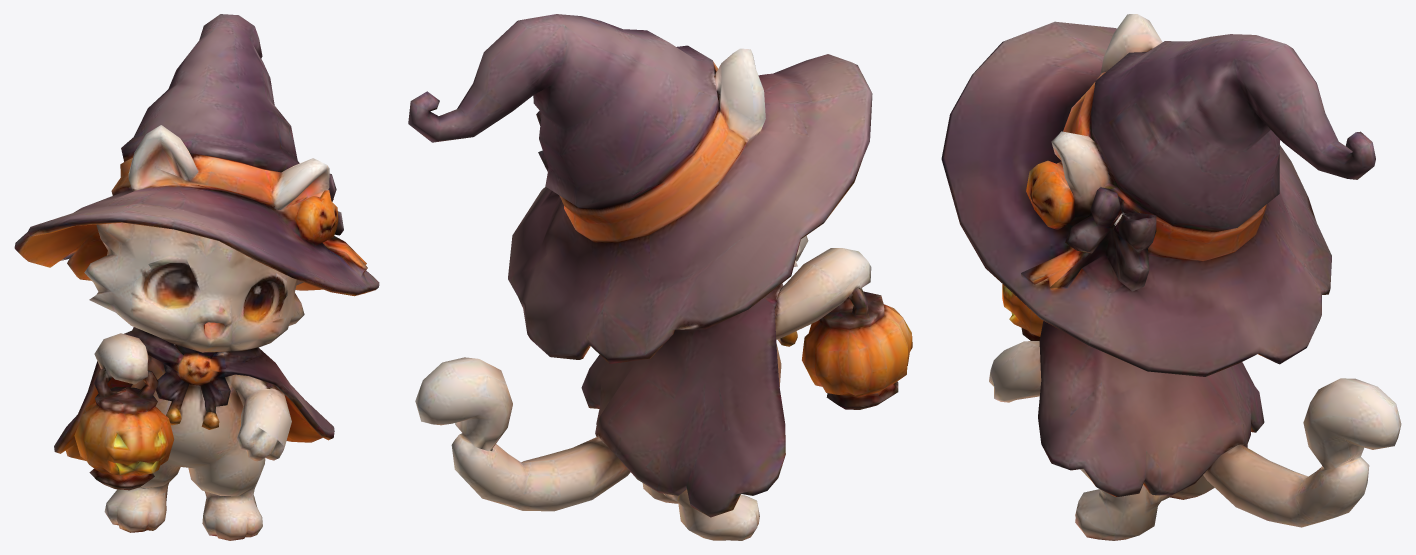
File: halloween-cat-large.glb
3 views of the same model, side by side, from view 1: azimuth 30°, elevation 25°; view 2: azimuth 150°, elevation 25°; view 3: azimuth 270°, elevation 25° (orthographic). The views are drawn at different scales.
Visible parts, largest first — view 1: LargeHalloweenCat; view 2: LargeHalloweenCat; view 3: LargeHalloweenCat.
Boxes of the visible parts, x1=… form: LargeHalloweenCat: x1=14, y1=14, x2=379, y2=540; LargeHalloweenCat: x1=408, y1=14, x2=912, y2=540; LargeHalloweenCat: x1=941, y1=14, x2=1401, y2=540.
Size of the model in its own units: 0.8253 by 1.15 by 0.92.
1 material, 1 textured.
